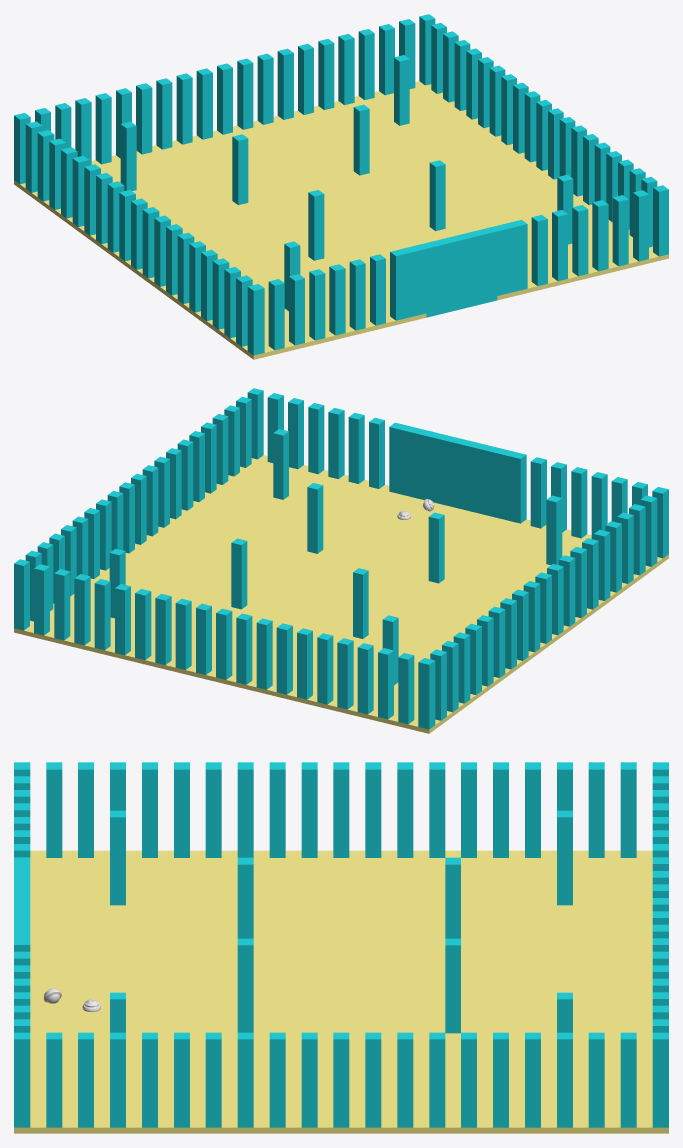
File: All_Building.fbx
3 renders of one model, top to bottom at view 1: azimuth 30°, elevation 25°; view 2: azimuth 150°, elevation 25°; view 3: azimuth 270°, elevation 25°, orthographic. The views are drawn at different scales.
Visible parts, largest first — view 1: Cube; view 2: Cube; view 3: Cube.
Part boxes in pixels (bbox=[...]): Cube: bbox=[14, 14, 668, 359]; Cube: bbox=[14, 388, 668, 733]; Cube: bbox=[14, 762, 668, 1133].
Bounding box in the file's own units: 20000 × 3174 × 20000.
